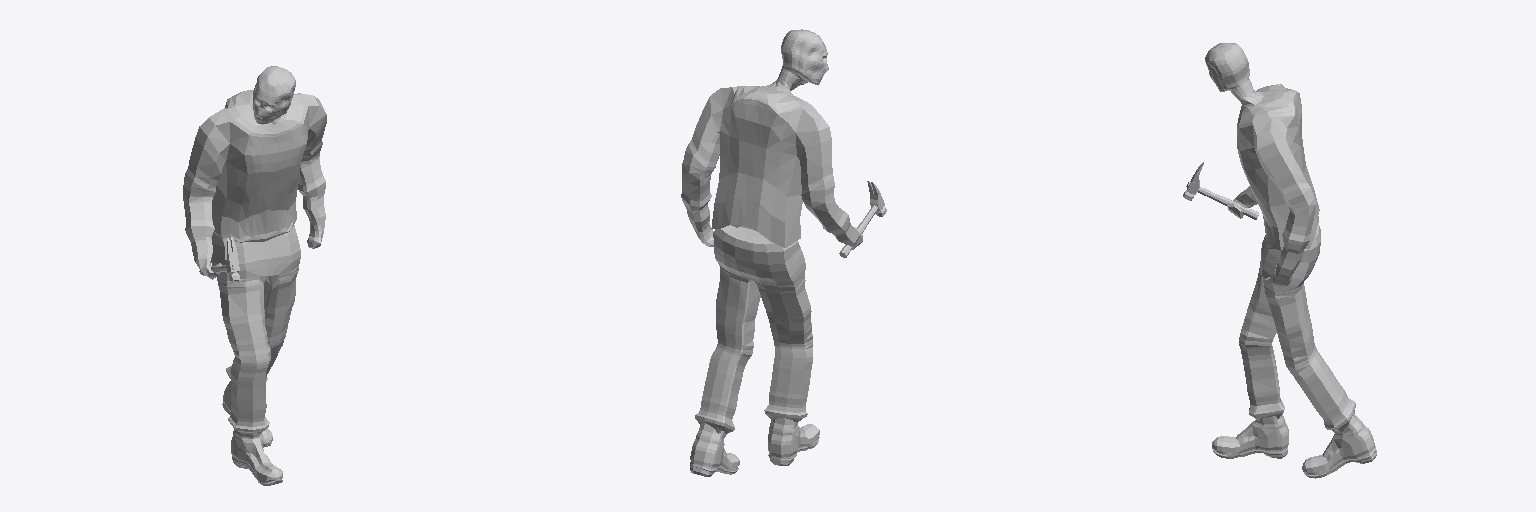
File: Murderer_Idle52.obj
The picture shows the model from 3 angles: view 1: azimuth 30°, elevation 25°; view 2: azimuth 150°, elevation 25°; view 3: azimuth 270°, elevation 25°; orthographic projection.
Parts seen in each view (by area): view 1: Körper, Beine, Stiefel, Hammer; view 2: Körper, Beine, Stiefel, Hammer; view 3: Körper, Beine, Stiefel, Hammer.
Part boxes in pixels (x1,y1,x2,y2): Körper: (183,66,326,279); Beine: (211,225,300,433); Stiefel: (222,381,282,485); Hammer: (199,237,239,281); Körper: (681,29,862,249); Beine: (695,225,812,436); Stiefel: (690,418,819,476); Hammer: (839,181,886,257); Körper: (1205,43,1319,287); Beine: (1239,223,1355,431); Stiefel: (1212,413,1376,478); Hammer: (1183,162,1258,219).
Bounding box in the file's own units: 0.3638 × 0.9602 × 0.4063.